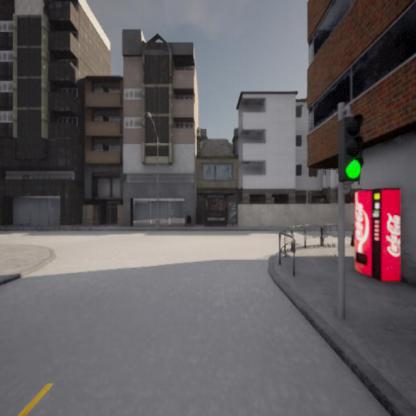traffic_light_green: (342, 114, 366, 182)
